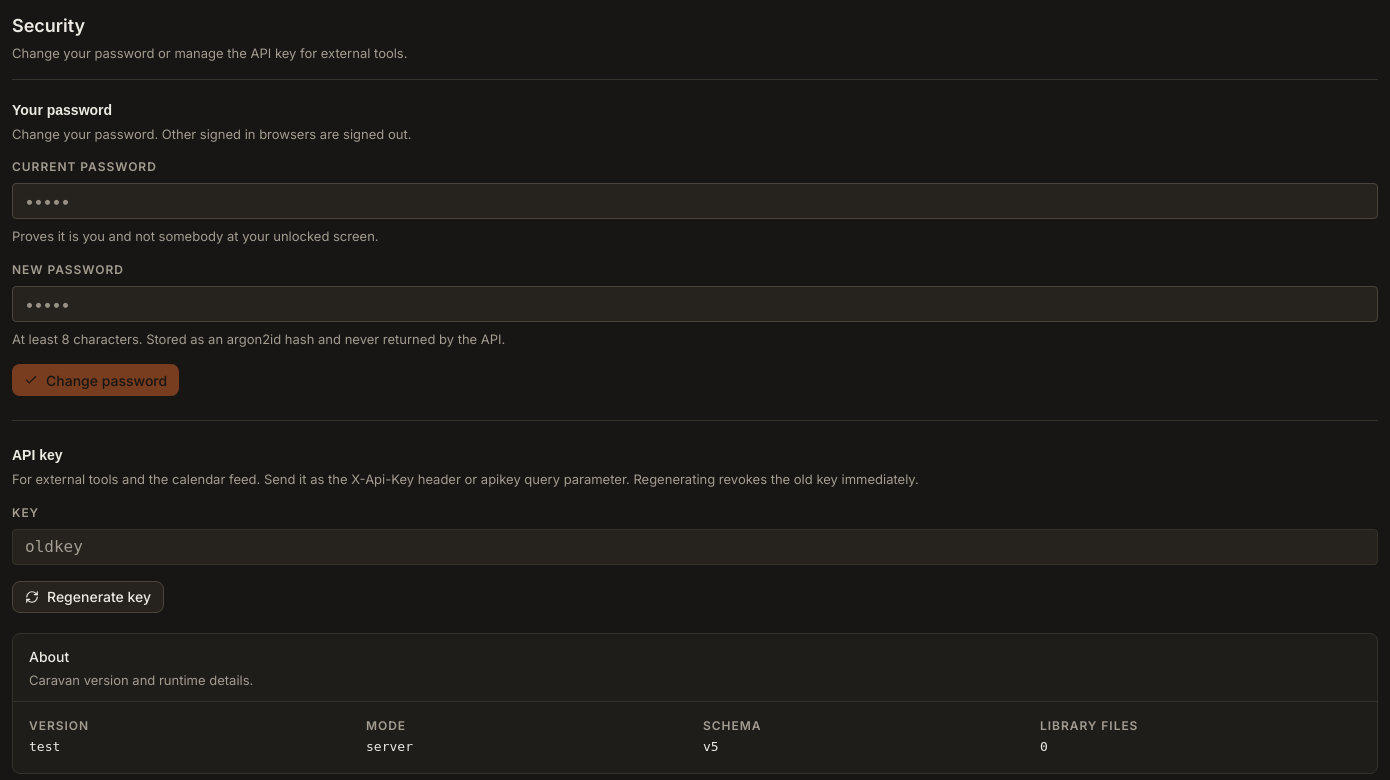
Security settings › shows the API key and swaps in the regenerated one
Expected: the field with id "security-api-key" holds "oldkey", [12,529,1378,565]
Click the button "Regenerate key".
click(88, 597)  # box [12,581,164,613]
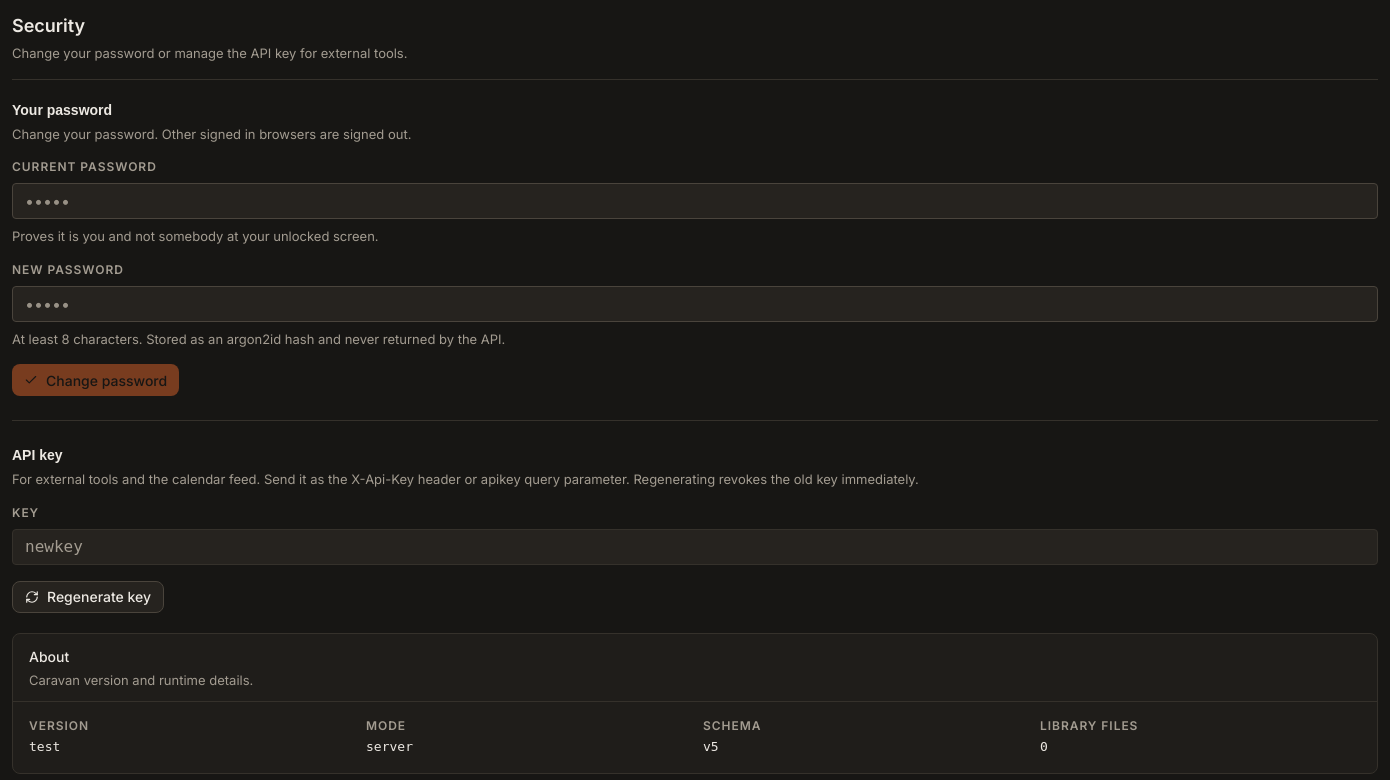
Expected: the field with id "security-api-key" holds "newkey", [12,529,1378,565]
